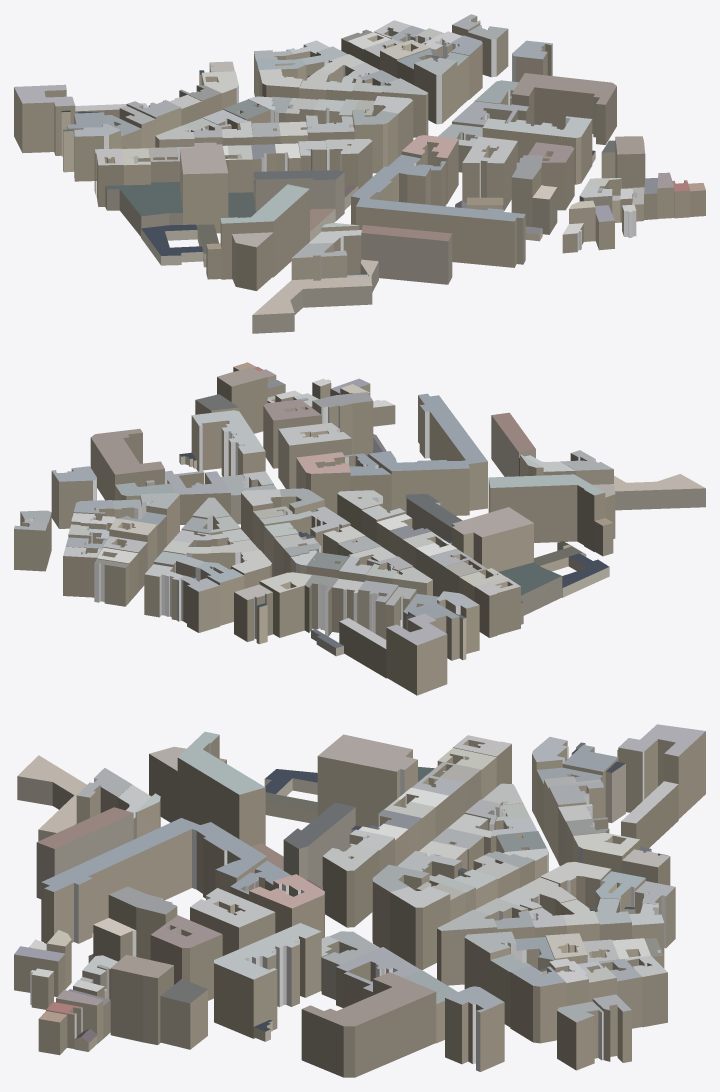
The picture shows the model from 3 angles, top to bottom: view 1: azimuth 30°, elevation 25°; view 2: azimuth 150°, elevation 25°; view 3: azimuth 270°, elevation 25°; orthographic projection. The views are drawn at different scales.
Parts seen in each view (by area): view 1: tuile; view 2: tuile; view 3: tuile.
Part boxes in pixels (x1,y1,x2,y2): tuile: (14, 14, 705, 333); tuile: (14, 362, 705, 695); tuile: (14, 724, 705, 1077).
Bounding box in the file's own units: 282 × 35.03 × 275.
